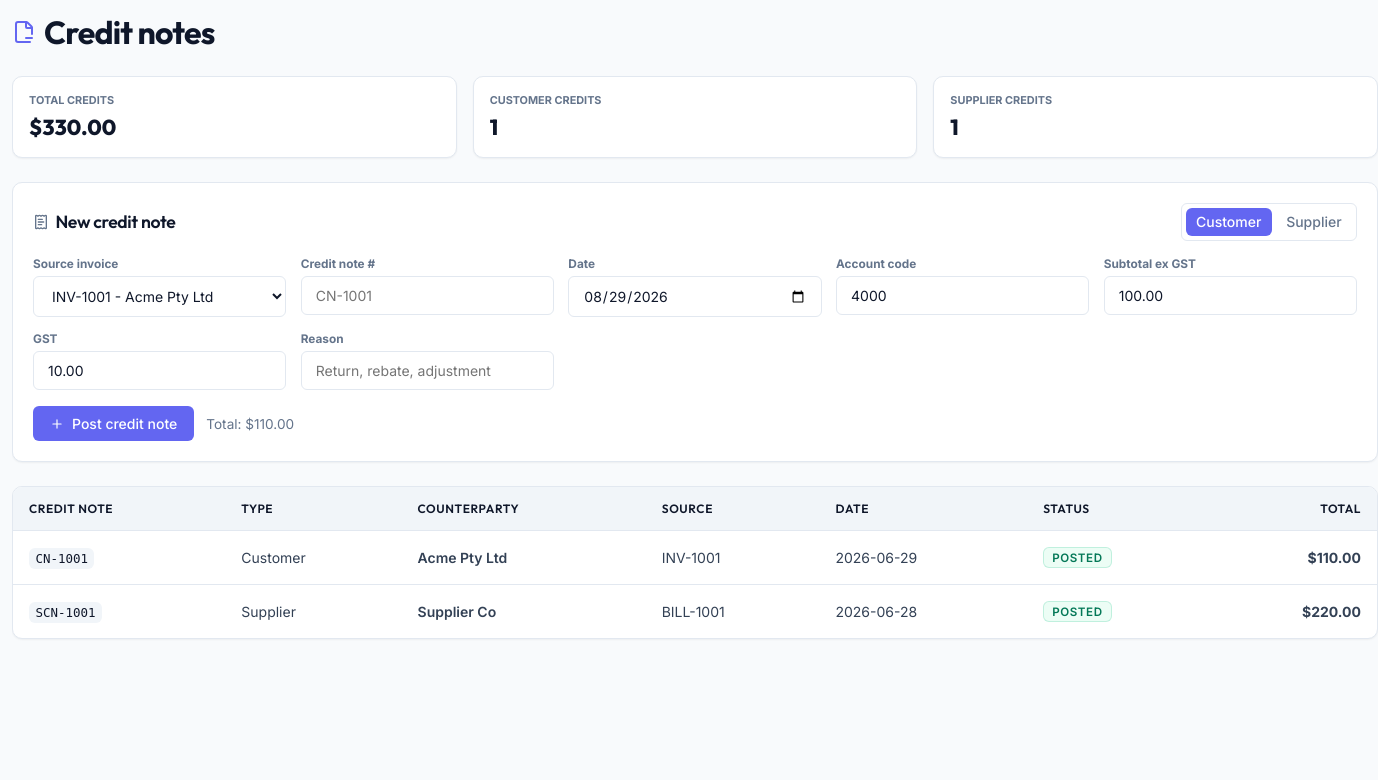
Test: CreditNotesPage › posts a customer credit note through the hook RPC wrapper
The image size is (1378, 780).
Type "CN-1002" into the field labelled "Credit note #" at (427, 296), box [301, 276, 554, 315]
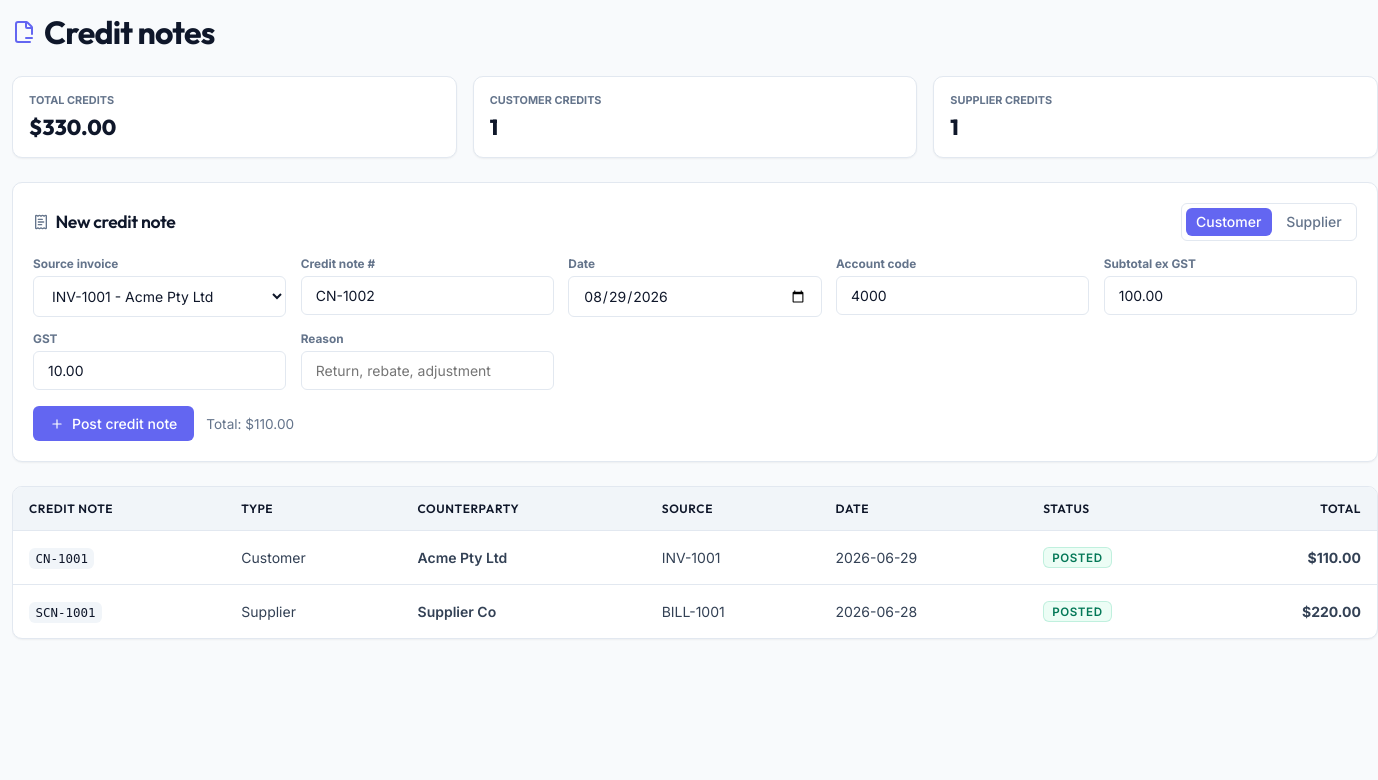
Click the button "Post credit note" at (114, 424), box [33, 406, 194, 441]
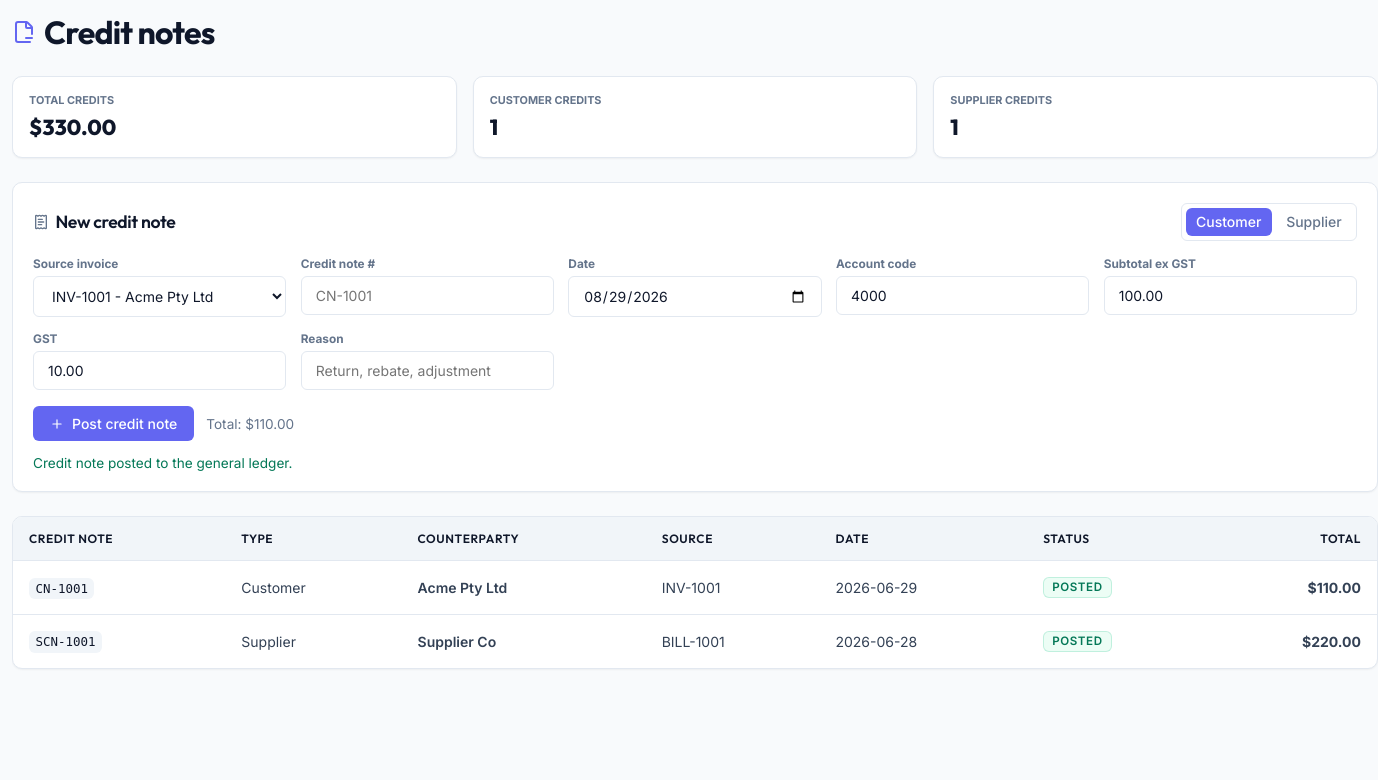
Expected: the text "Credit note posted to the general ledger." is shown, [33, 455, 292, 471]
